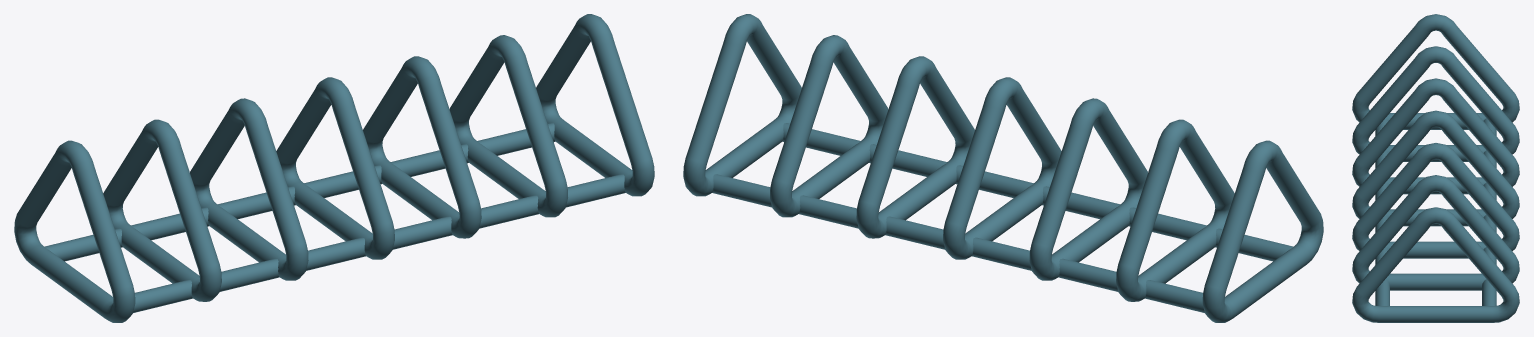
The model's file is City_6_Bike_Parking_1.glb.
3 renders of one model, left to right at view 1: azimuth 30°, elevation 25°; view 2: azimuth 150°, elevation 25°; view 3: azimuth 270°, elevation 25°, orthographic. The views are drawn at different scales.
Visible parts, largest first — view 1: City_6_Bike_Parking_1; view 2: City_6_Bike_Parking_1; view 3: City_6_Bike_Parking_1.
Part boxes in pixels (left/top/right/bottom): City_6_Bike_Parking_1: left=14, top=14, right=654, bottom=322; City_6_Bike_Parking_1: left=683, top=14, right=1323, bottom=322; City_6_Bike_Parking_1: left=1352, top=14, right=1519, bottom=322.
Size of the model in its own units: 2.61 by 0.6951 by 0.9246.
Materials: 1 (1 with a texture image).
